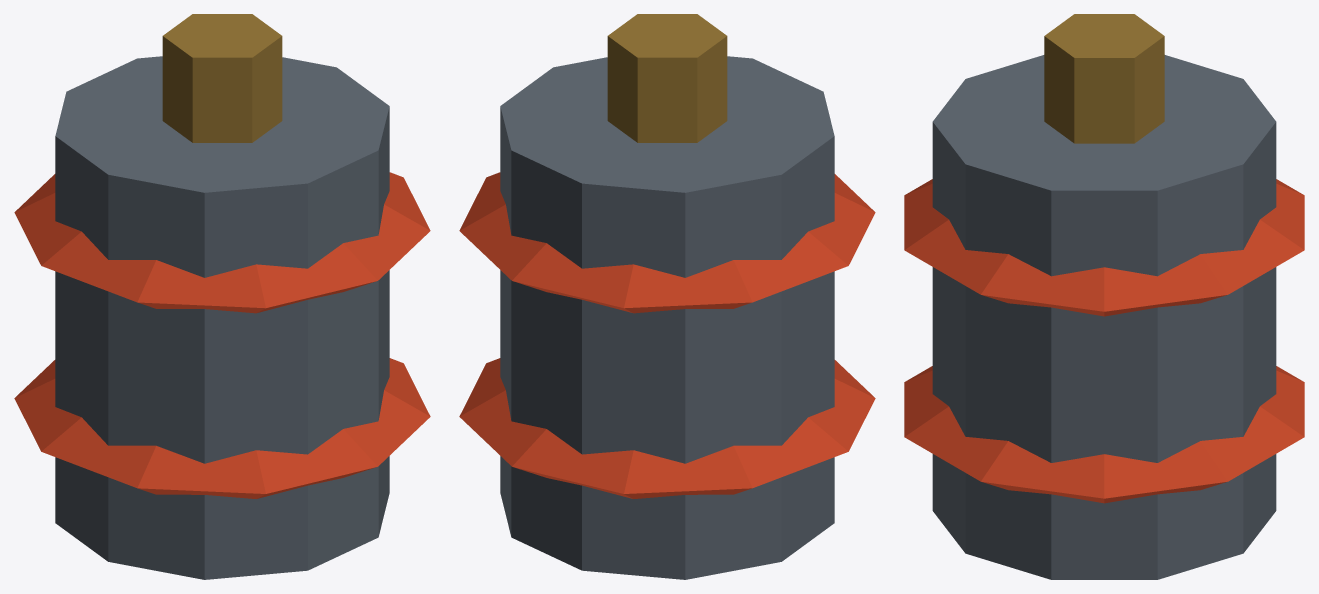
Rendered from cell-incendiary.glb.
3 renders of one model, left to right at view 1: azimuth 30°, elevation 25°; view 2: azimuth 150°, elevation 25°; view 3: azimuth 270°, elevation 25°, orthographic.
Parts seen in each view (by area): view 1: m; view 2: m; view 3: m.
Boxes of the visible parts, left/top/right/bottom form: m: left=14, top=14, right=430, bottom=579; m: left=459, top=14, right=875, bottom=579; m: left=904, top=14, right=1304, bottom=579.
Bounding box in the file's own units: 0.0482 × 0.06 × 0.0458.
